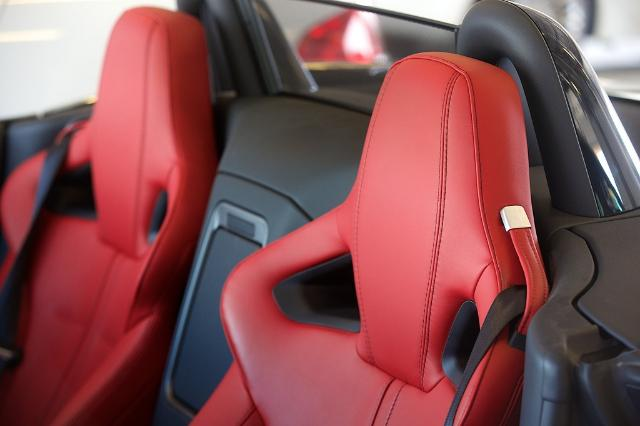Seatbelt: (0, 133, 78, 377), (445, 287, 528, 426)
